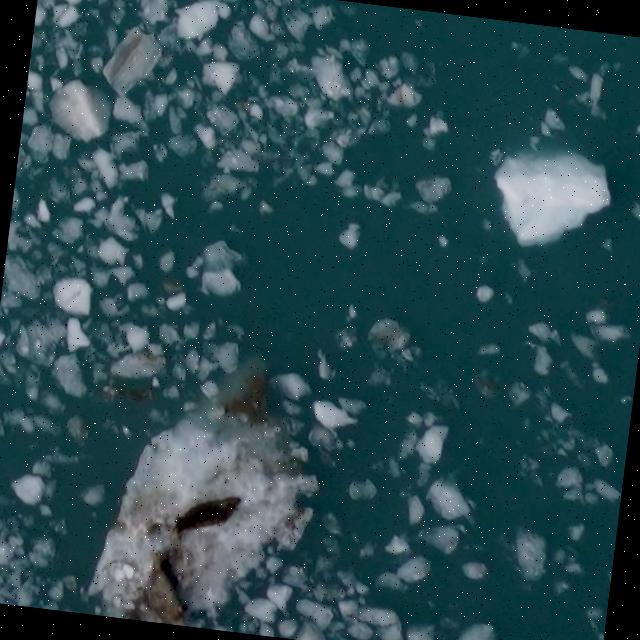seal: (146, 552, 189, 626), (173, 495, 243, 538)
